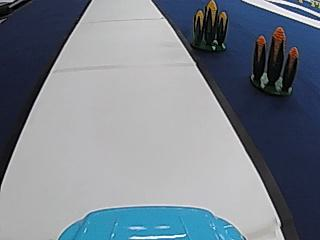corn: (245, 25, 301, 95), (188, 0, 232, 53)
